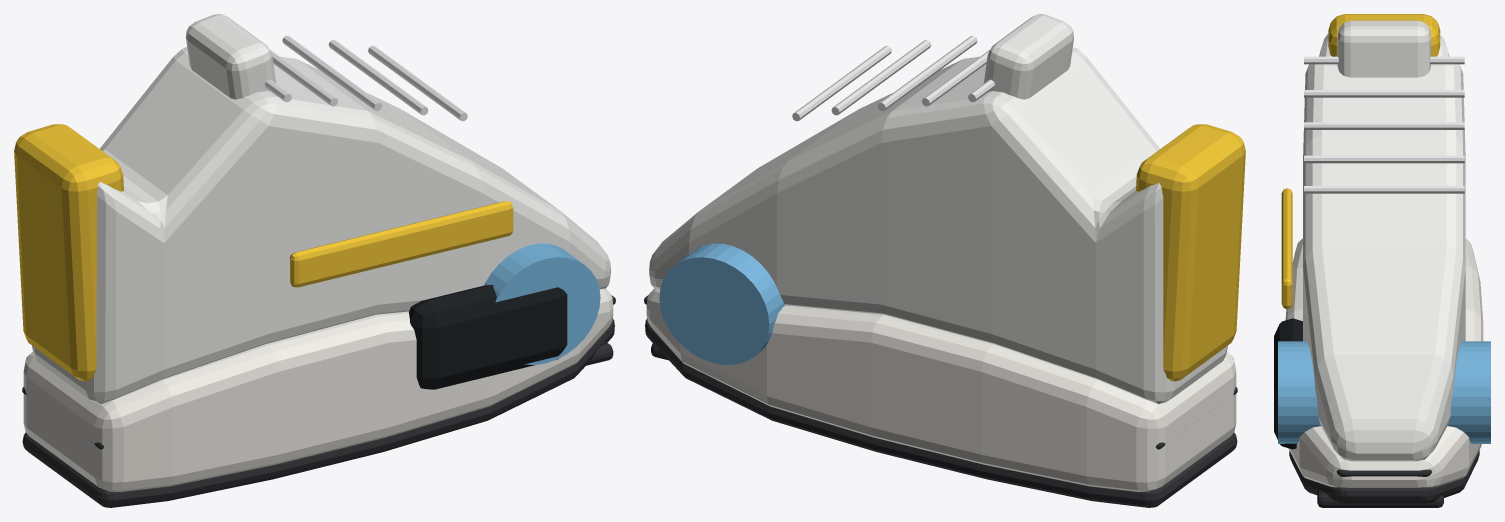
The model's file is nike-alphafly-3-study.glb.
3 renders of one model, left to right at view 1: azimuth 30°, elevation 25°; view 2: azimuth 150°, elevation 25°; view 3: azimuth 270°, elevation 25°, orthographic. The views are drawn at different scales.
Visible parts, largest first — view 1: nike-alphafly-3-study_UPPER, nike-alphafly-3-study_MIDSOLE, nike-alphafly-3-study_HEEL_COUNTER, nike-alphafly-3-study_FOREFOOT_CUTOUT, nike-alphafly-3-study, nike-alphafly-3-study_OUTSOLE, nike-alphafly-3-study_MUSEUM_ID_PANEL, nike-alphafly-3-study_TONGUE; view 2: nike-alphafly-3-study_UPPER, nike-alphafly-3-study_MIDSOLE, nike-alphafly-3-study_HEEL_COUNTER, nike-alphafly-3-study, nike-alphafly-3-study_OUTSOLE, nike-alphafly-3-study_TONGUE; view 3: nike-alphafly-3-study_UPPER, nike-alphafly-3-study, nike-alphafly-3-study_MIDSOLE, nike-alphafly-3-study_TONGUE, nike-alphafly-3-study_OUTSOLE, nike-alphafly-3-study_MUSEUM_ID_PANEL, nike-alphafly-3-study_HEEL_COUNTER, nike-alphafly-3-study_FOREFOOT_CUTOUT, nike-alphafly-3-study_CARBON_FLYPLATE.
Boxes of the visible parts, <box> form: nike-alphafly-3-study_UPPER: <box>32,47,610,404</box>; nike-alphafly-3-study_MIDSOLE: <box>23,288,613,491</box>; nike-alphafly-3-study_HEEL_COUNTER: <box>14,124,123,381</box>; nike-alphafly-3-study_FOREFOOT_CUTOUT: <box>409,284,567,389</box>; nike-alphafly-3-study: <box>265,35,613,365</box>; nike-alphafly-3-study_OUTSOLE: <box>22,318,614,507</box>; nike-alphafly-3-study_MUSEUM_ID_PANEL: <box>290,201,513,287</box>; nike-alphafly-3-study_TONGUE: <box>186,14,276,99</box>; nike-alphafly-3-study_UPPER: <box>649,47,1227,404</box>; nike-alphafly-3-study_MIDSOLE: <box>646,288,1236,491</box>; nike-alphafly-3-study_HEEL_COUNTER: <box>1136,124,1245,381</box>; nike-alphafly-3-study: <box>651,35,994,364</box>; nike-alphafly-3-study_OUTSOLE: <box>645,318,1237,507</box>; nike-alphafly-3-study_TONGUE: <box>983,14,1073,99</box>; nike-alphafly-3-study_UPPER: <box>1303,32,1465,461</box>; nike-alphafly-3-study: <box>1278,56,1490,507</box>; nike-alphafly-3-study_MIDSOLE: <box>1285,238,1483,487</box>; nike-alphafly-3-study_TONGUE: <box>1337,20,1430,77</box>; nike-alphafly-3-study_OUTSOLE: <box>1289,450,1479,503</box>; nike-alphafly-3-study_MUSEUM_ID_PANEL: <box>1281,188,1292,308</box>; nike-alphafly-3-study_HEEL_COUNTER: <box>1328,14,1440,56</box>; nike-alphafly-3-study_FOREFOOT_CUTOUT: <box>1274,318,1302,449</box>; nike-alphafly-3-study_CARBON_FLYPLATE: <box>1336,469,1431,476</box>.
Size of the model in its own units: 0.2988 by 0.2127 by 0.116.
